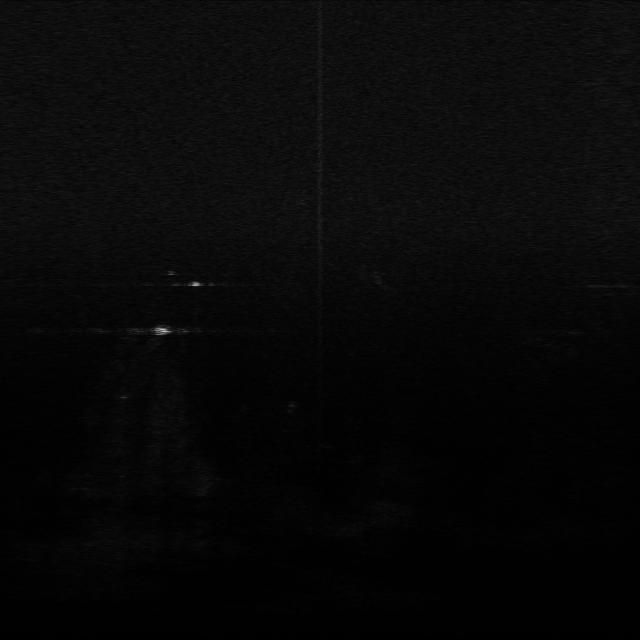rov: (148, 322, 172, 338)
